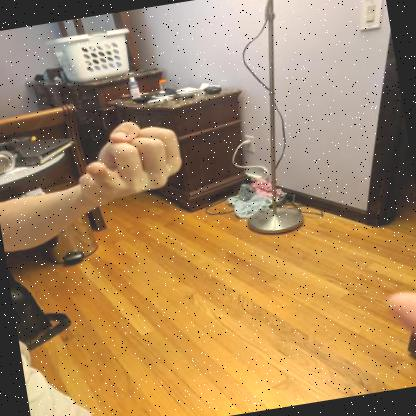J: (79, 120, 182, 204)
